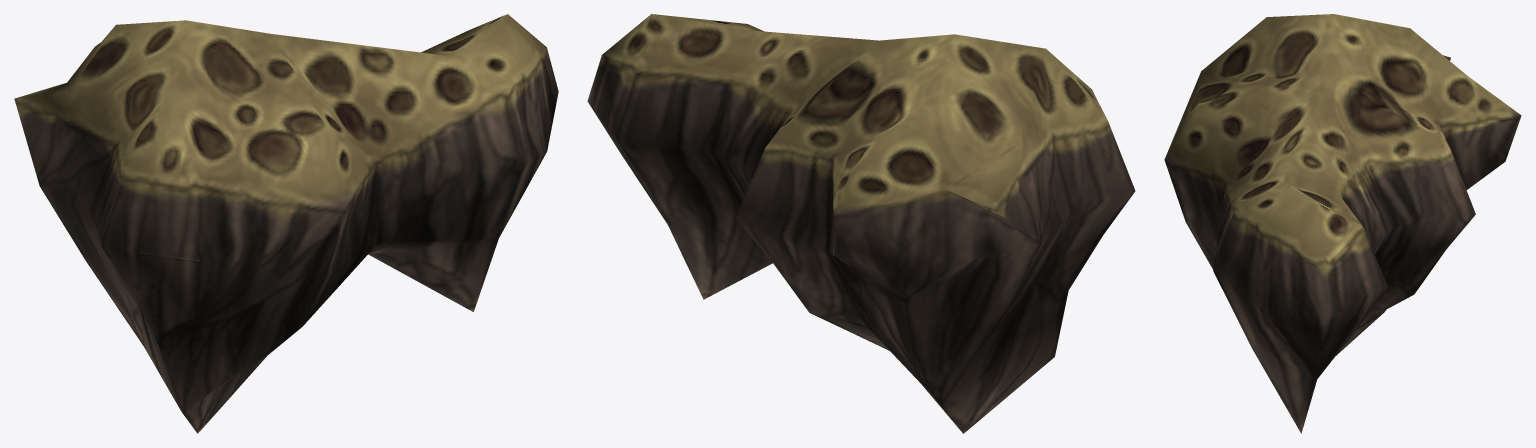
File: Asteroid_01.FBX
The picture shows the model from 3 angles, left to right: view 1: azimuth 30°, elevation 25°; view 2: azimuth 150°, elevation 25°; view 3: azimuth 270°, elevation 25°; orthographic projection. The views are drawn at different scales.
Visible parts, largest first — view 1: Asteroid_01; view 2: Asteroid_01; view 3: Asteroid_01.
Part boxes in pixels (box(x1,y1,x2,y2)): Asteroid_01: box(14, 14, 558, 433); Asteroid_01: box(587, 14, 1135, 433); Asteroid_01: box(1164, 14, 1521, 433).
Size of the model in its own units: 185 by 129 by 143.
